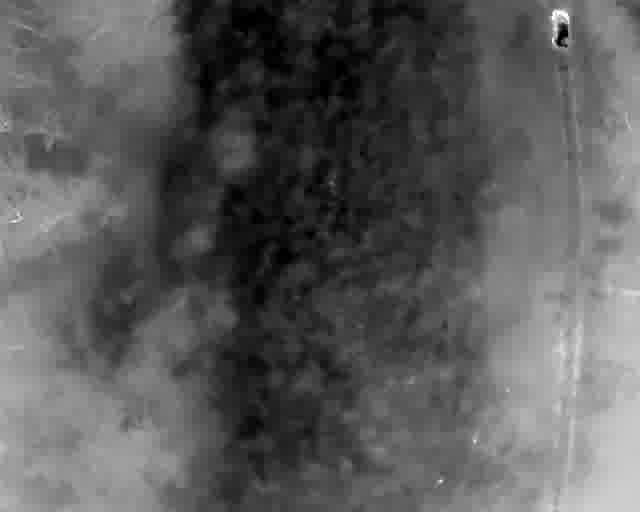car: (18, 0, 43, 39)
person: (31, 54, 43, 64), (33, 43, 43, 54)
